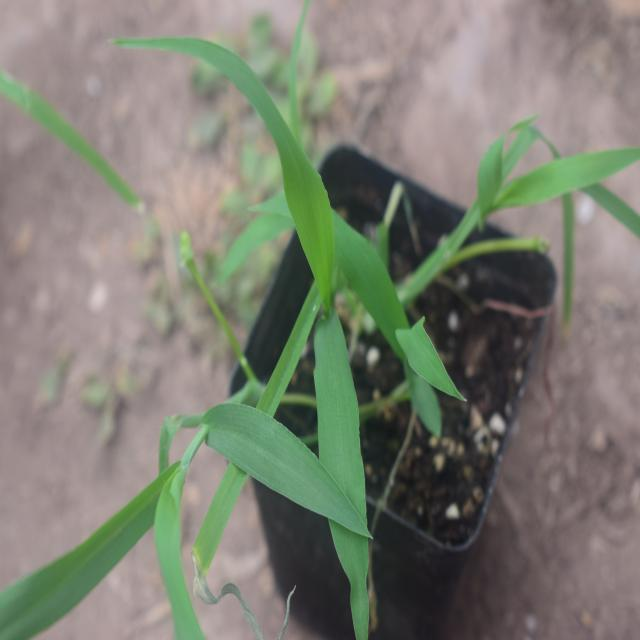crabgrass: (118, 54, 412, 603)
